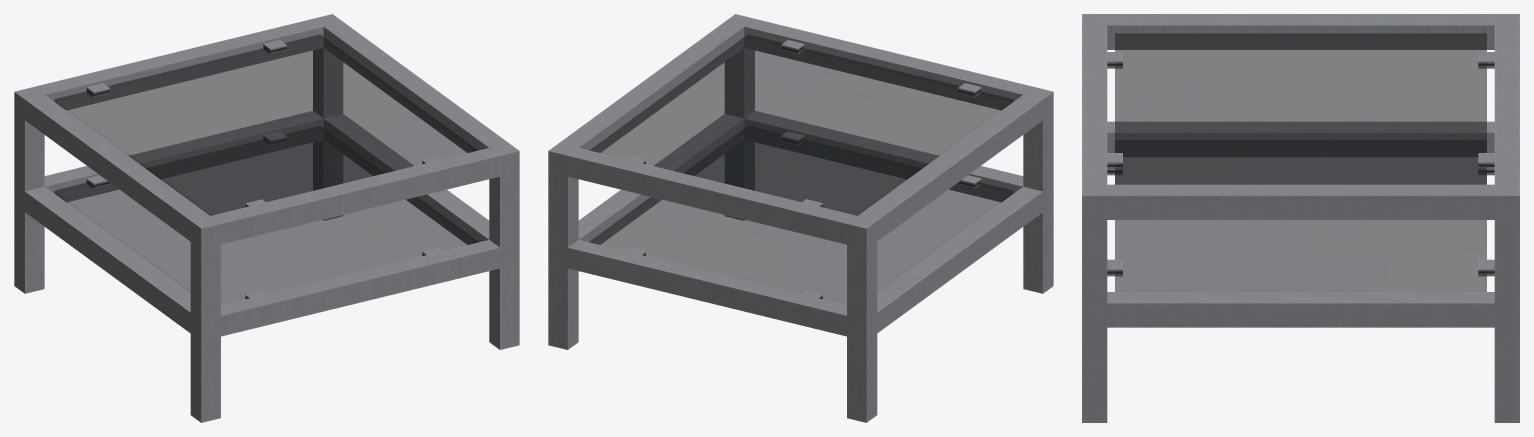
The model's file is SM_Coffee_Table_02.glb.
The picture shows the model from 3 angles, left to right: view 1: azimuth 30°, elevation 25°; view 2: azimuth 150°, elevation 25°; view 3: azimuth 270°, elevation 25°; orthographic projection. The views are drawn at different scales.
Visible parts, largest first — view 1: SM_Coffee_Table_02; view 2: SM_Coffee_Table_02; view 3: SM_Coffee_Table_02.
Boxes of the visible parts, box(x1,y1,x2,y2) form: SM_Coffee_Table_02: box(14, 14, 519, 422); SM_Coffee_Table_02: box(548, 14, 1053, 422); SM_Coffee_Table_02: box(1082, 14, 1519, 422).
Size of the model in its own units: 0.8559 by 0.4992 by 0.8714.
2 materials, 2 textured.
